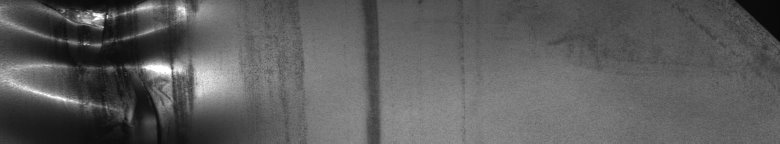ke: (4, 4, 200, 132)
